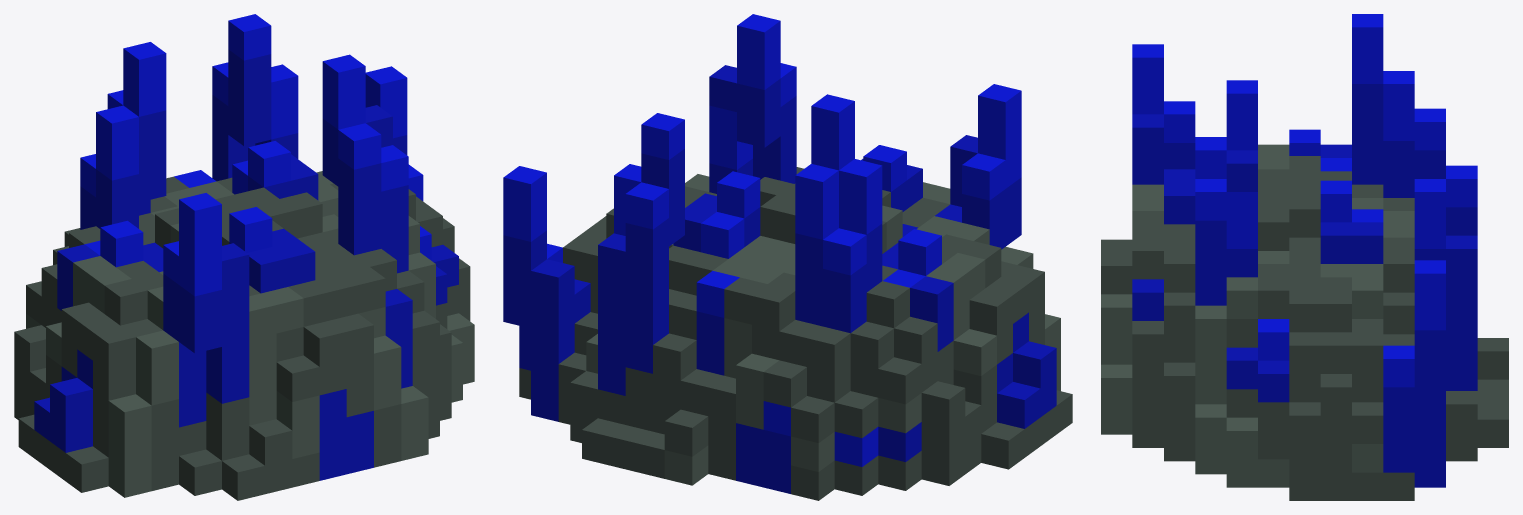
The model's file is SapphireDeposit_L.obj.
The picture shows the model from 3 angles, left to right: view 1: azimuth 30°, elevation 25°; view 2: azimuth 150°, elevation 25°; view 3: azimuth 270°, elevation 25°; orthographic projection.
Visible parts, largest first — view 1: SapphireDeposit_L; view 2: SapphireDeposit_L; view 3: SapphireDeposit_L.
Boxes of the visible parts, box(x1,y1,x2,y2) form: SapphireDeposit_L: box(14, 14, 474, 500); SapphireDeposit_L: box(503, 14, 1072, 500); SapphireDeposit_L: box(1101, 14, 1508, 500).
Bounding box in the file's own units: 1.6 × 1.2 × 1.3.
1 material, 1 textured.
